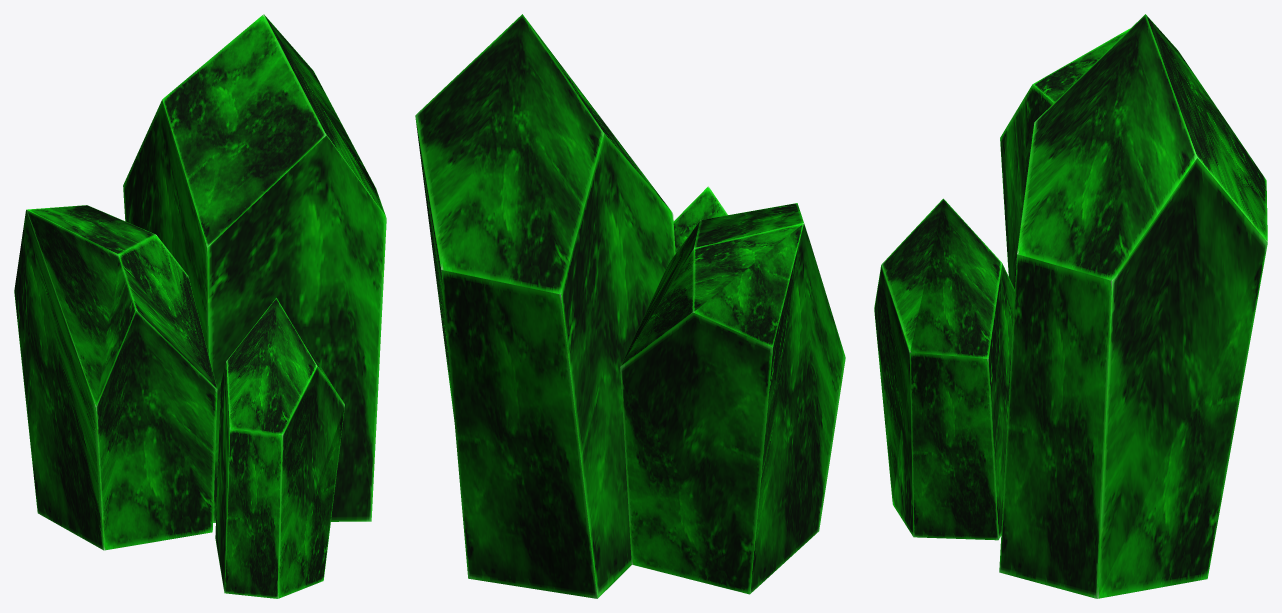
Rendered from c_Cris2b.glb.
3 renders of one model, left to right at view 1: azimuth 30°, elevation 25°; view 2: azimuth 150°, elevation 25°; view 3: azimuth 270°, elevation 25°, orthographic. The views are drawn at different scales.
Visible parts, largest first — view 1: c_Cris2b; view 2: c_Cris2b; view 3: c_Cris2b.
Boxes of the visible parts, bbox=[...] form: c_Cris2b: bbox=[14, 14, 386, 598]; c_Cris2b: bbox=[415, 14, 845, 598]; c_Cris2b: bbox=[874, 14, 1267, 598].
Size of the model in its own units: 0.6617 by 0.9022 by 0.5816.
1 material, 1 textured.
